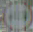Heavy Vehicles: (2, 1, 31, 30)
